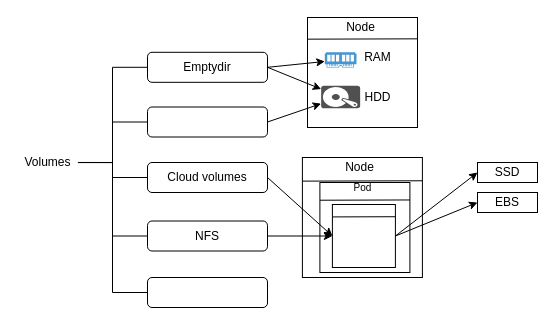
Image size: 555x325. Some labels were removed from this diagram. The shapes that lost their labels are listed below. From the top down, each one's centre as x and y in pixels, then its label:
At pixel 207 121: "host Path".
At pixel 363 236: "Container".
At pixel 207 292: "Persistent Volume Claim (PVC)".
